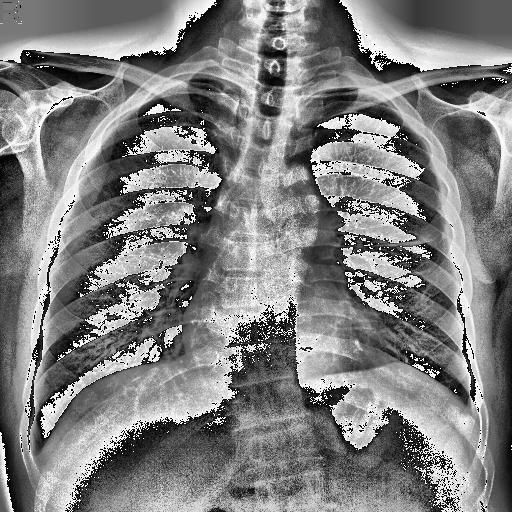1- Atelectasis: (354, 218, 444, 258), (348, 226, 448, 254)
11- Pleural thickening: (349, 222, 454, 254)
13- Pulmonary fibrosis: (366, 264, 450, 313)
